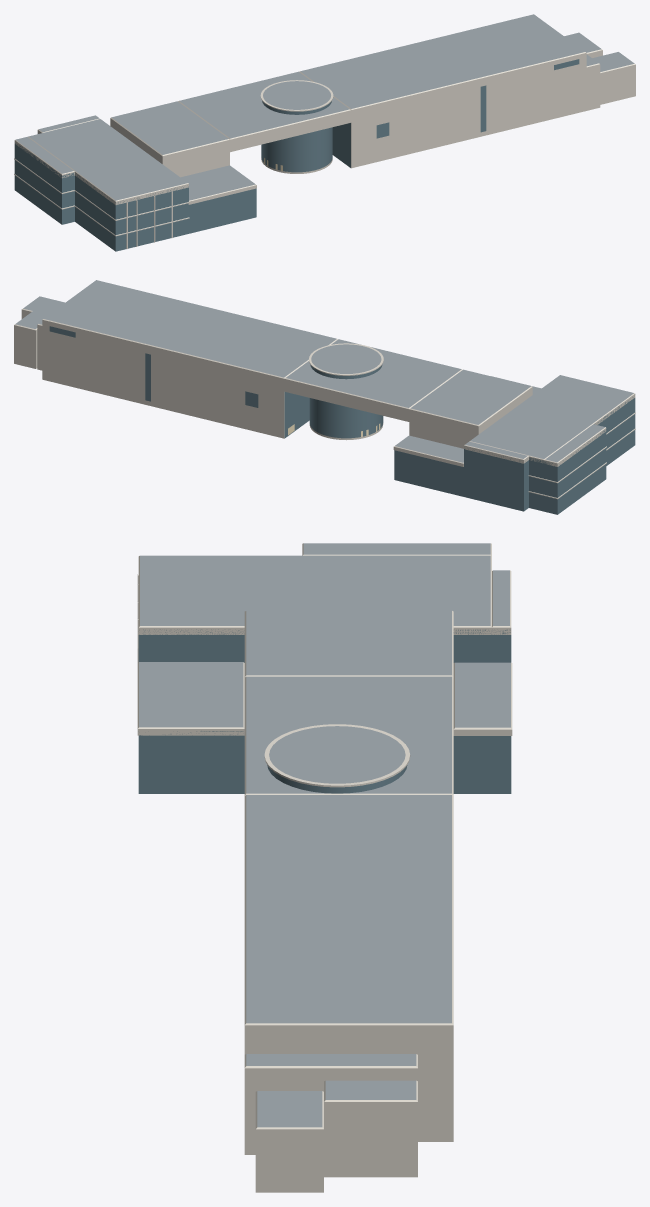
The model's file is seoul-national-museum.glb.
3 renders of one model, top to bottom at view 1: azimuth 30°, elevation 25°; view 2: azimuth 150°, elevation 25°; view 3: azimuth 270°, elevation 25°, orthographic. The views are drawn at different scales.
Visible parts, largest first — view 1: National Museum of Korea; view 2: National Museum of Korea; view 3: National Museum of Korea.
Boxes of the visible parts, <box> form: National Museum of Korea: <box>14,14,635,251</box>; National Museum of Korea: <box>14,280,635,514</box>; National Museum of Korea: <box>137,543,512,1192</box>.
Size of the model in its own units: 400 by 43.08 by 115.
